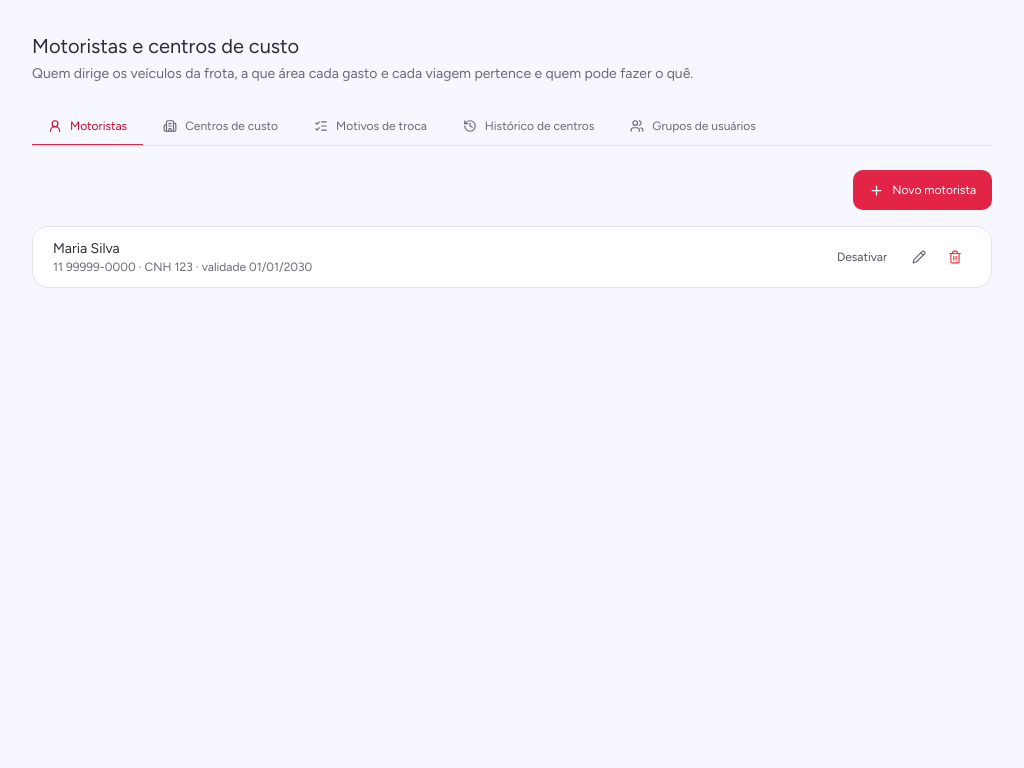
Test: Cadastros: motoristas › desativa em vez de apagar e mostra a recusa de quem tem histórico
This screenshot has width=1024, height=768.
Click the button "Desativar" at coordinates (862, 257), box [825,241,899,273]
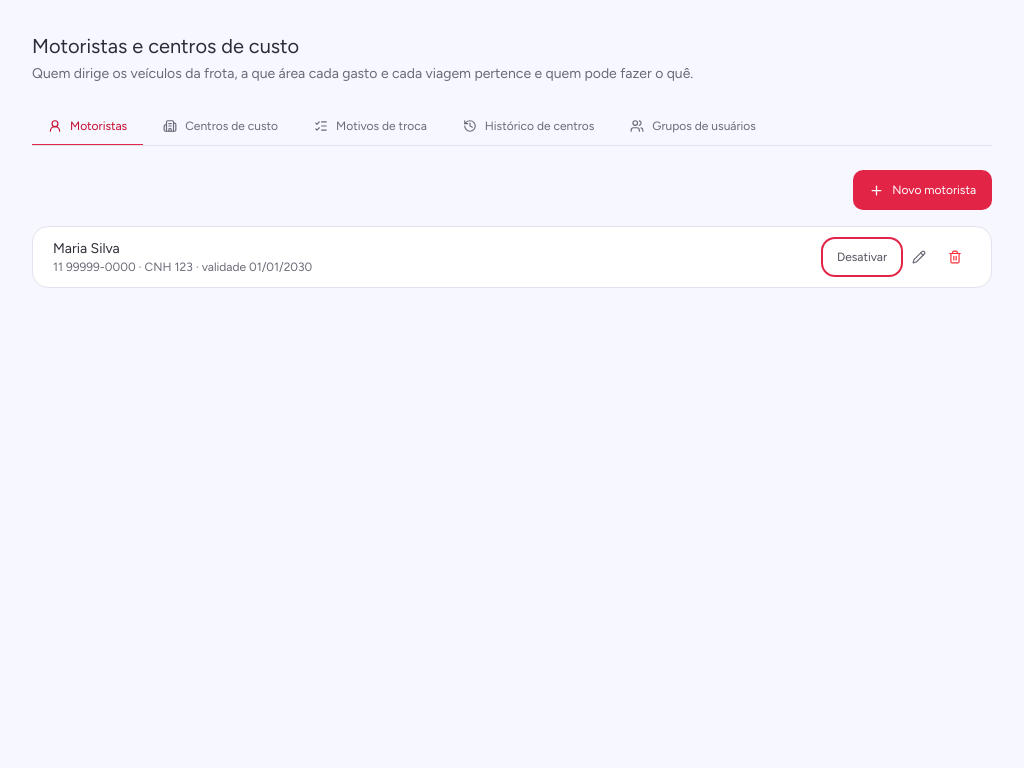
Click the button named "Remover Maria Silva" at coordinates (955, 257), box [939,241,971,273]
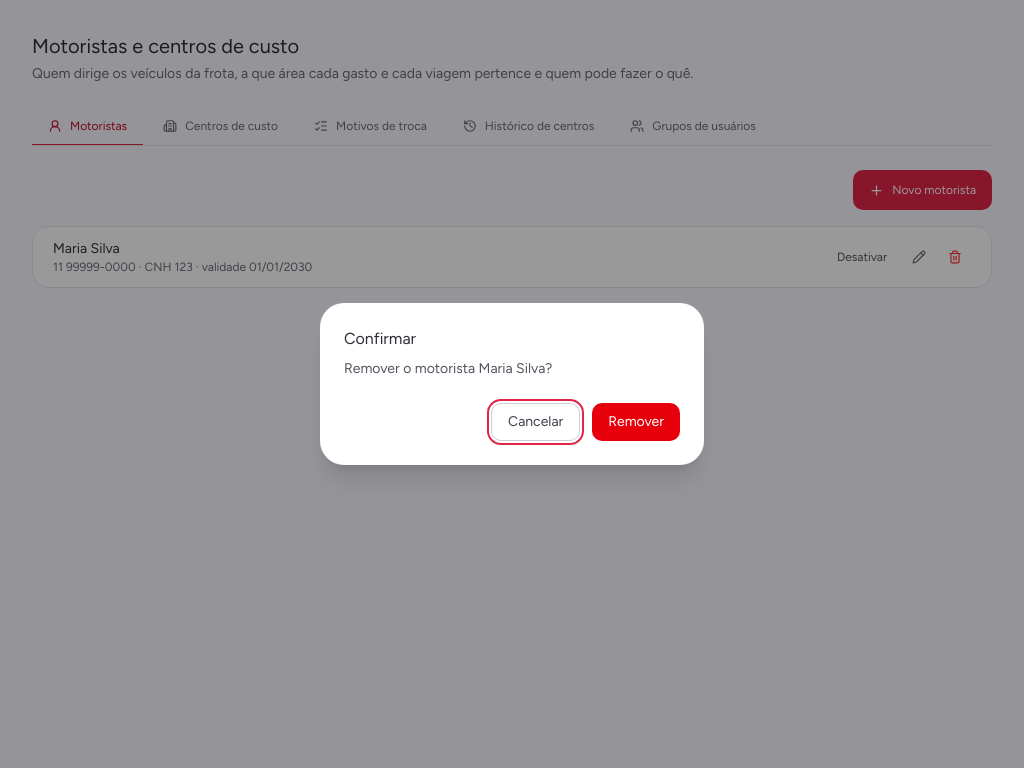
Click the button "Remover" at coordinates (636, 422), box [592,403,680,441]
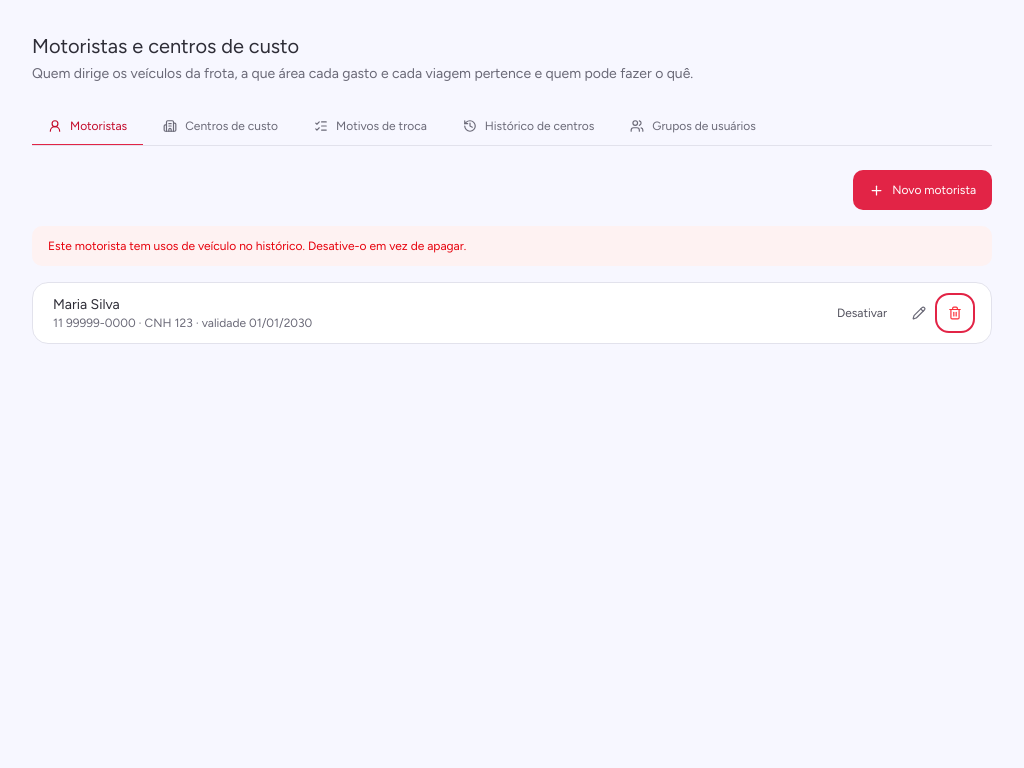
Expected: the message shows "Desative-o em vez de apagar", [48,239,466,253]
